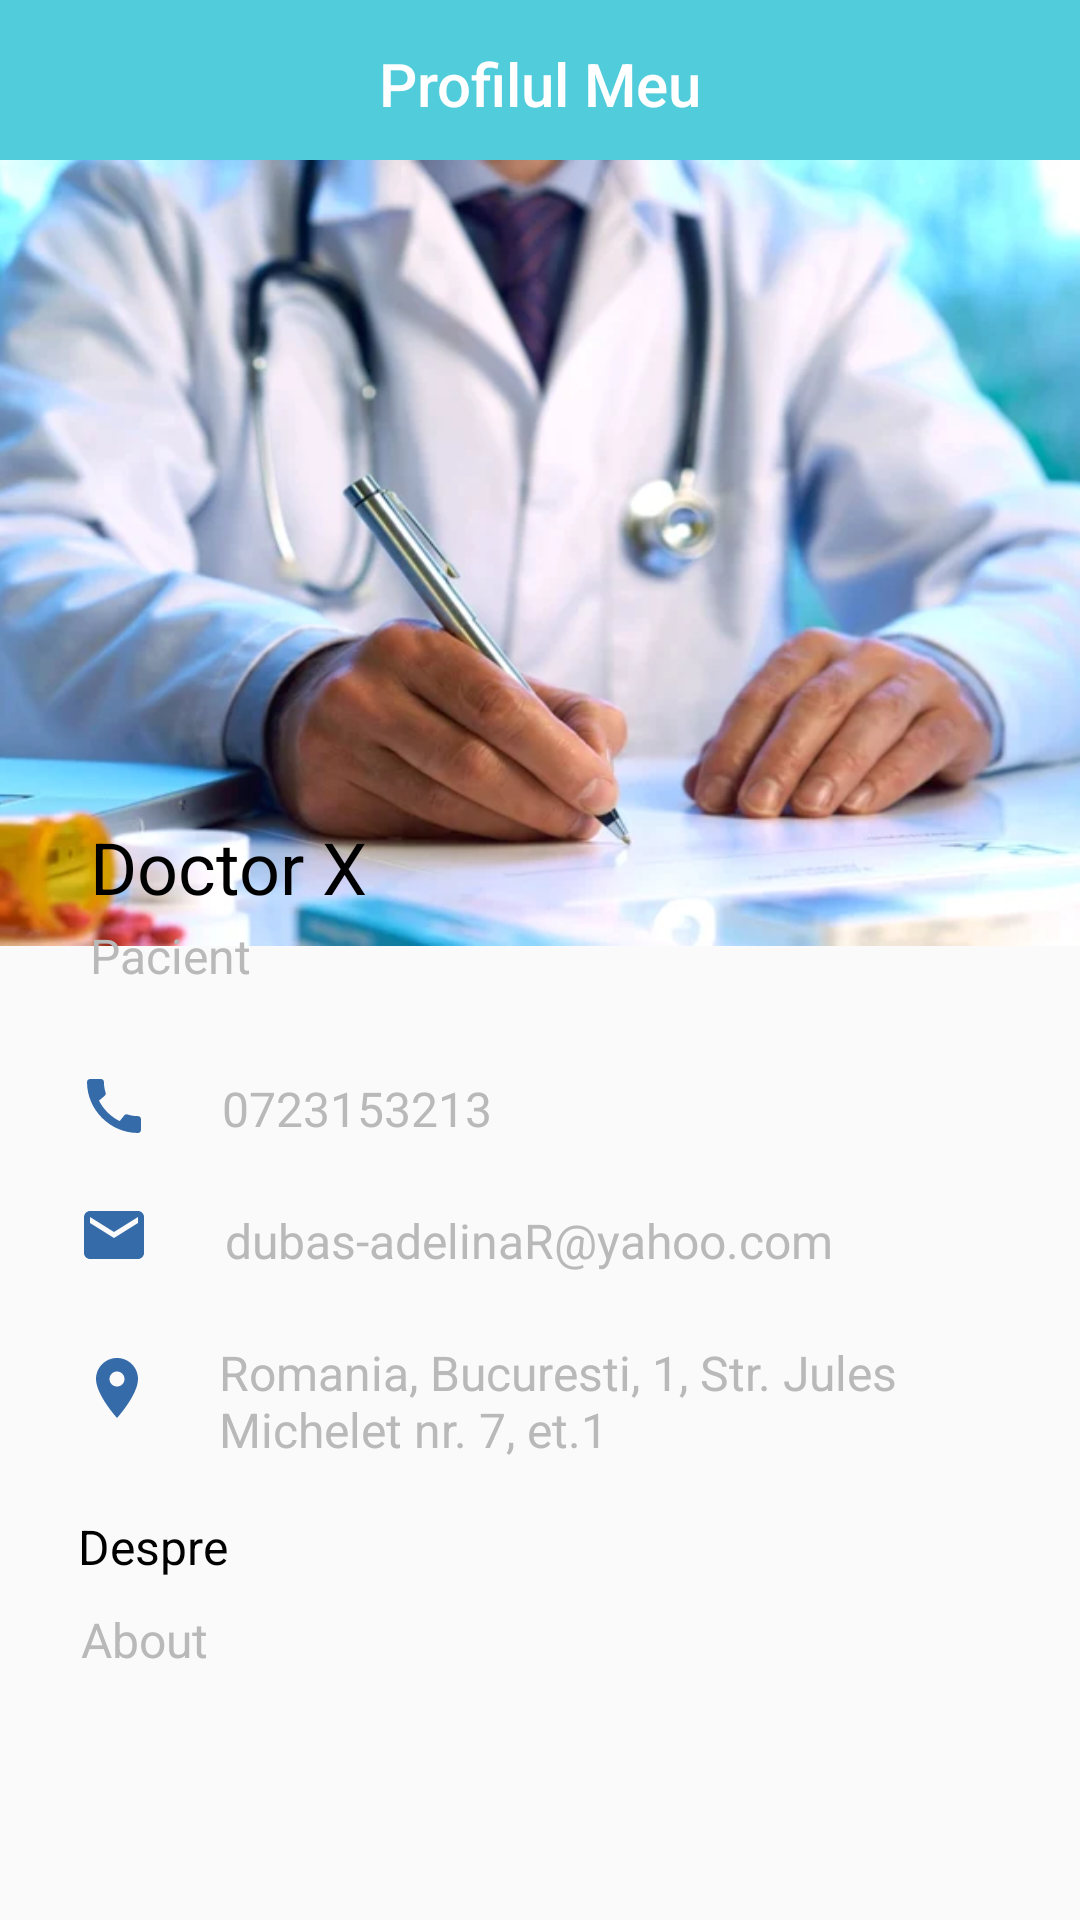

Where to tap for icons on this 1080x1920 app screen, as point (x, y):
call: point (114, 1106)
email: point (114, 1235)
location on: point (117, 1388)
